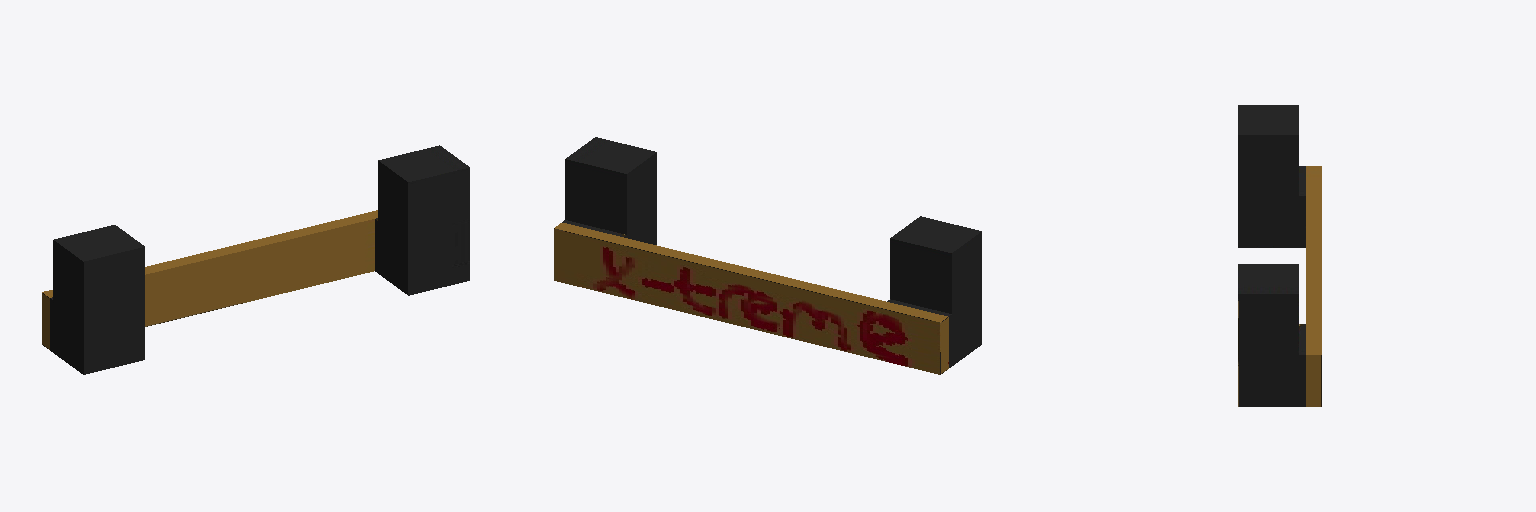
The picture shows the model from 3 angles: view 1: azimuth 30°, elevation 25°; view 2: azimuth 150°, elevation 25°; view 3: azimuth 270°, elevation 25°; orthographic projection.
Visible parts, largest first — view 1: Cube_Cube.001; view 2: Cube_Cube.001; view 3: Cube_Cube.001.
Boxes of the visible parts, box(x1,y1,x2,y2) form: Cube_Cube.001: box(42, 145, 469, 374); Cube_Cube.001: box(554, 137, 981, 374); Cube_Cube.001: box(1238, 105, 1321, 406).
Bounding box in the file's own units: 3.32 × 0.9309 × 0.6199.
1 materials, 1 textured.